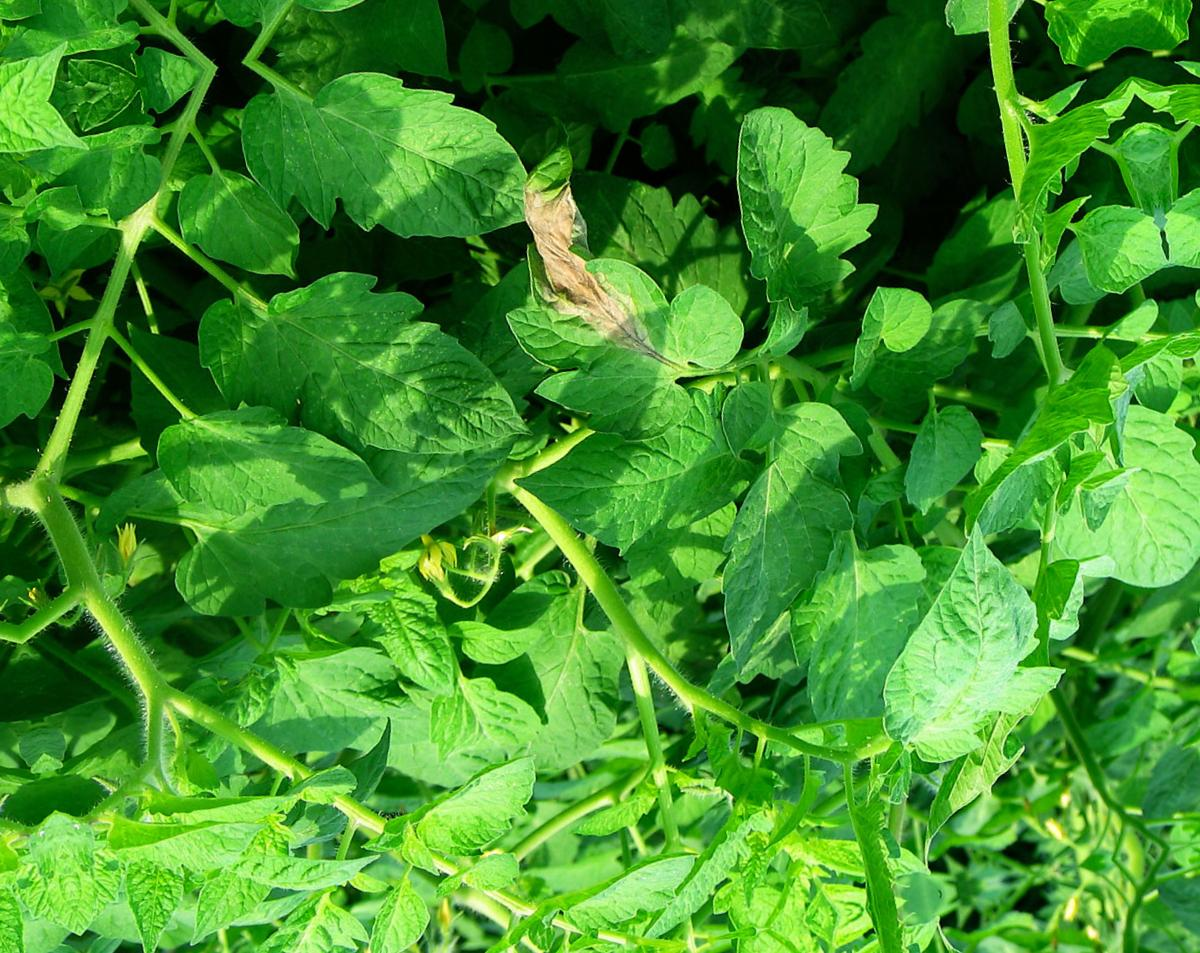Tomato leaf: (185, 208, 533, 510), (657, 360, 906, 695), (223, 33, 542, 267), (771, 484, 963, 758), (711, 78, 905, 347), (154, 363, 373, 560), (1040, 395, 1200, 613), (162, 148, 316, 303), (383, 755, 562, 859)
Tomato leaf late blight: (491, 178, 744, 431)
